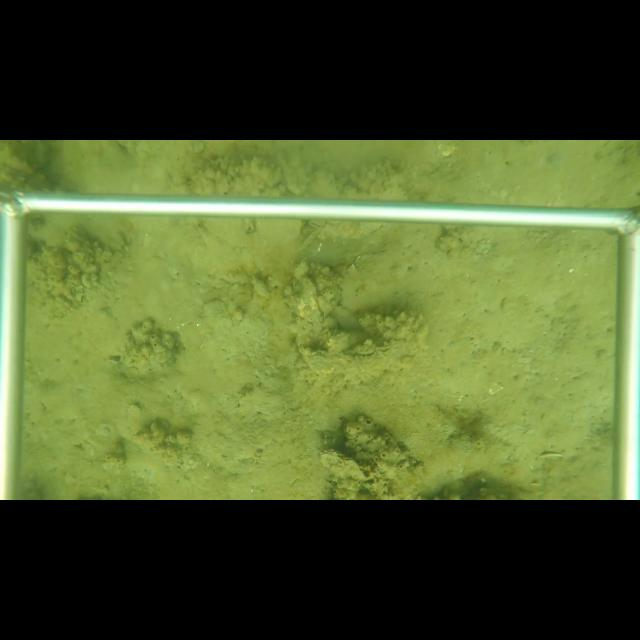Oyster-Closed: (294, 340, 413, 381), (317, 447, 372, 484), (289, 274, 325, 324)
